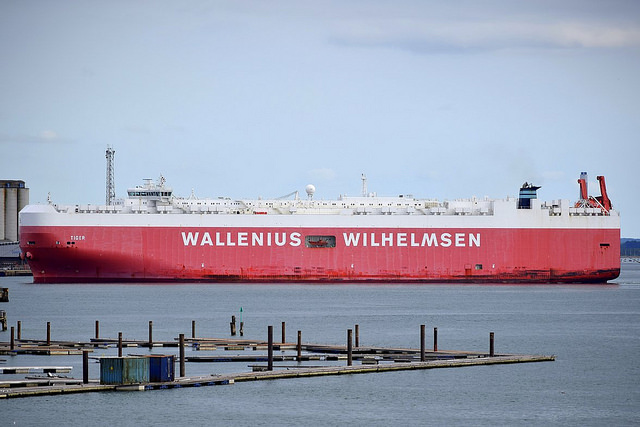PCC: (21, 171, 623, 287)
